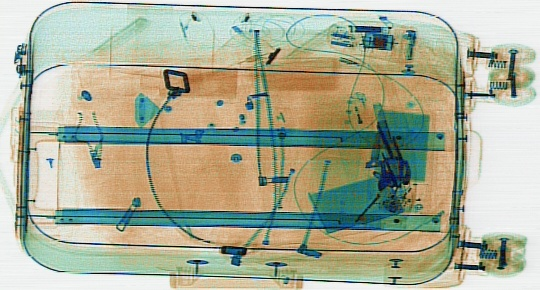lighter: (347, 93, 375, 149)
